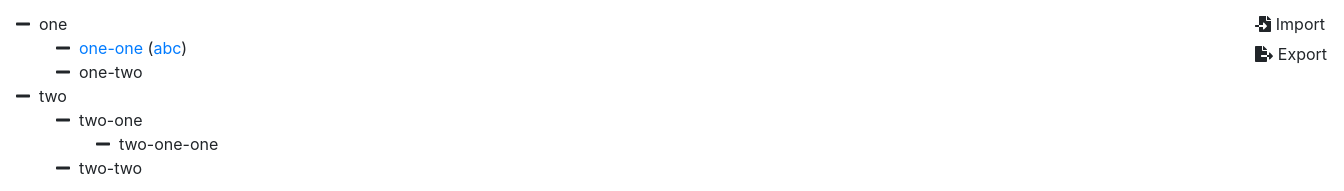
Test case: Test › should hide the children when their parent is clicked
Click the 5th element with class "fa-li" at (63, 120), box [56, 112, 70, 128]
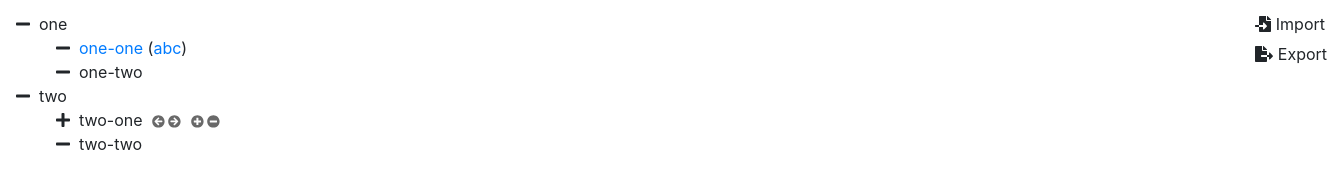
Result: the list "two-one-one" is gone
Click the 4th element with class "fa-li" at (23, 96), box [16, 88, 30, 104]
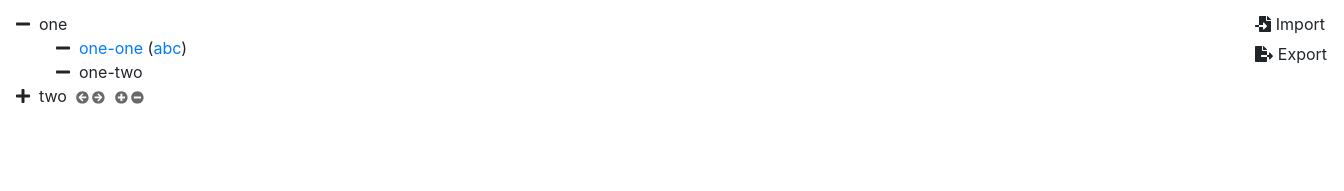
Result: the list "two-one two-two" is gone
